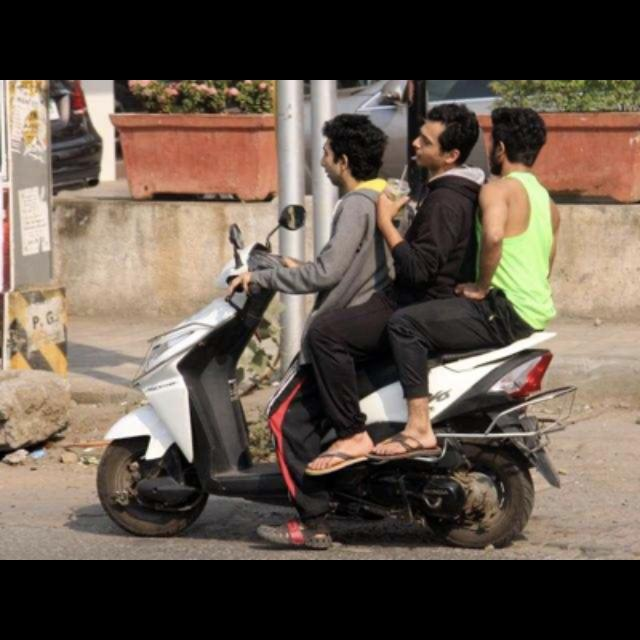With Helmet: (316, 110, 390, 190)
